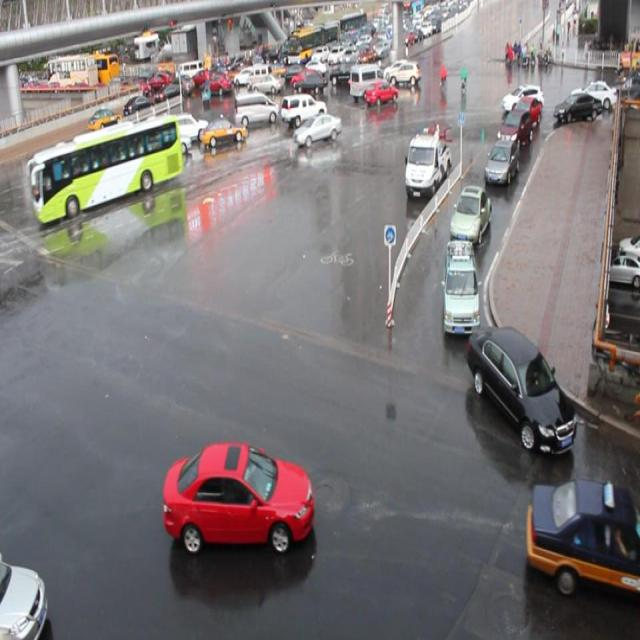bus: (403, 129, 450, 202)
car: (163, 440, 314, 552), (525, 476, 640, 598), (467, 323, 575, 452), (0, 554, 48, 640), (441, 238, 479, 333), (448, 186, 491, 243), (199, 112, 247, 150), (45, 148, 97, 183), (144, 126, 192, 160), (280, 92, 326, 127), (166, 108, 209, 144), (482, 140, 516, 184), (295, 114, 341, 144), (495, 108, 530, 146), (113, 129, 153, 158), (517, 94, 543, 132), (364, 80, 398, 106)
truck: (235, 92, 278, 124), (349, 64, 384, 96)
van: (33, 115, 182, 224)
